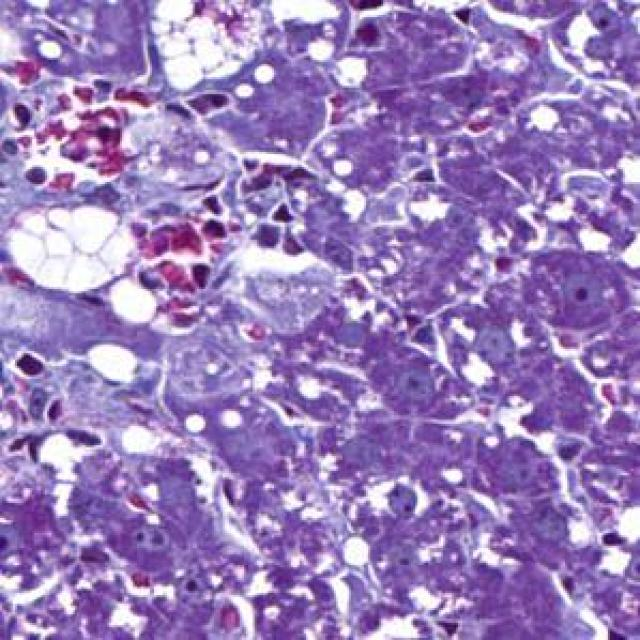ballooning: (9, 197, 146, 297), (148, 7, 276, 98)
